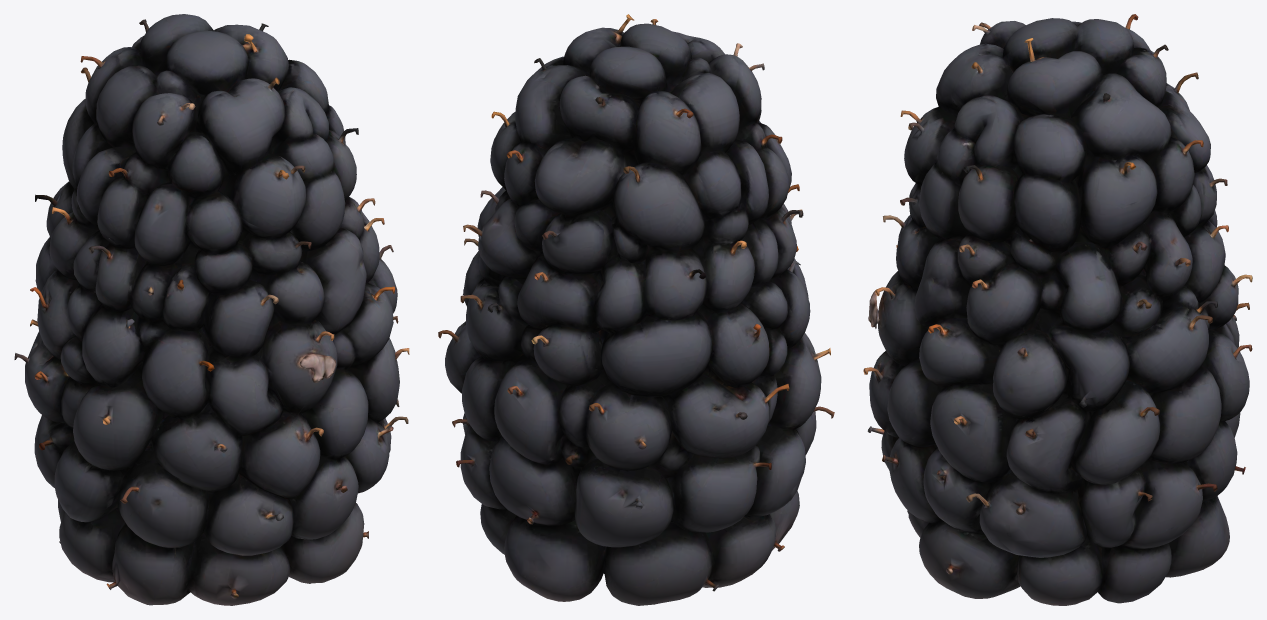
The model's file is bk-berry-blackberry.glb.
3 renders of one model, left to right at view 1: azimuth 30°, elevation 25°; view 2: azimuth 150°, elevation 25°; view 3: azimuth 270°, elevation 25°, orthographic. The views are drawn at different scales.
Parts seen in each view (by area): view 1: node_0; view 2: node_0; view 3: node_0.
Boxes of the visible parts, x1,y1,x2,y2 form: node_0: [14, 14, 409, 605]; node_0: [438, 14, 834, 605]; node_0: [863, 14, 1252, 605].
Bounding box in the file's own units: 0.7253 × 1.09 × 0.718.
Materials: 1 (1 with a texture image).
